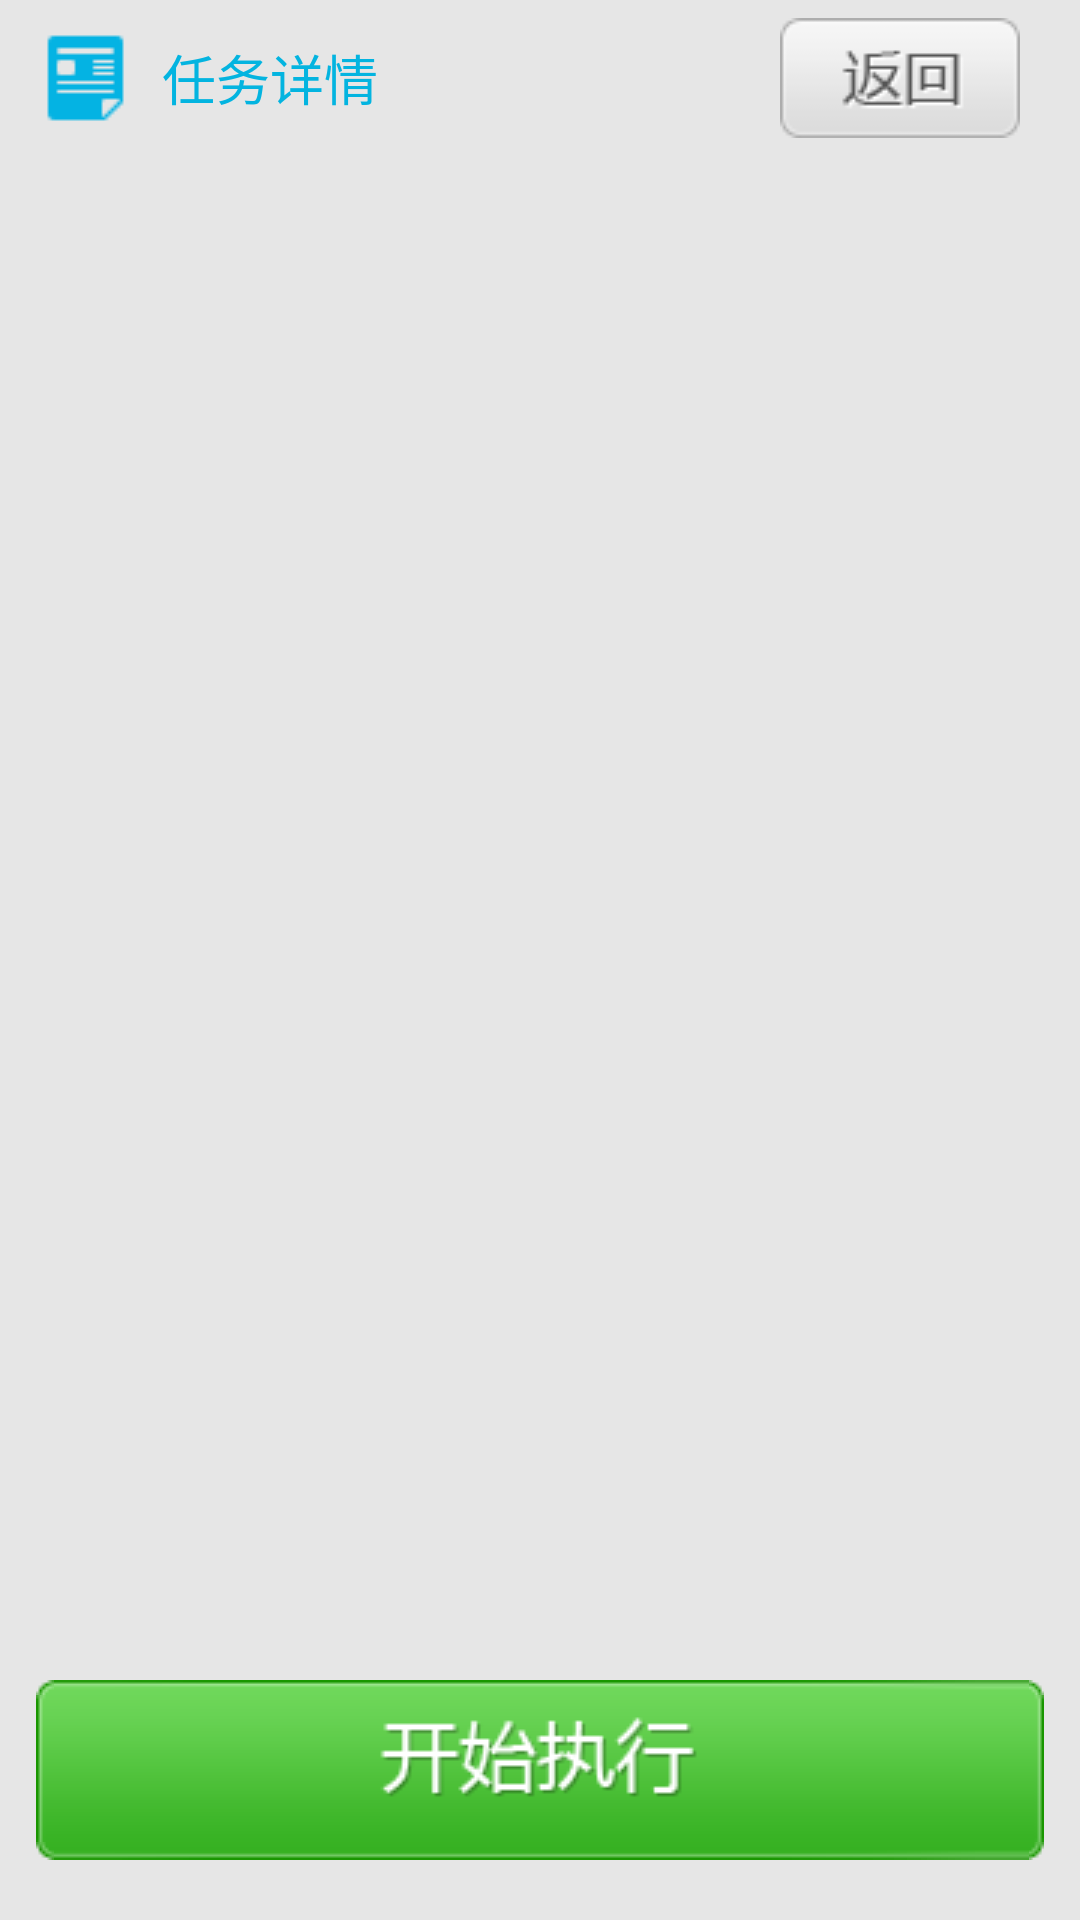

Where to tap for icons on this 1080×1920 app screen, as (x,y):
task detail: (85,78)
